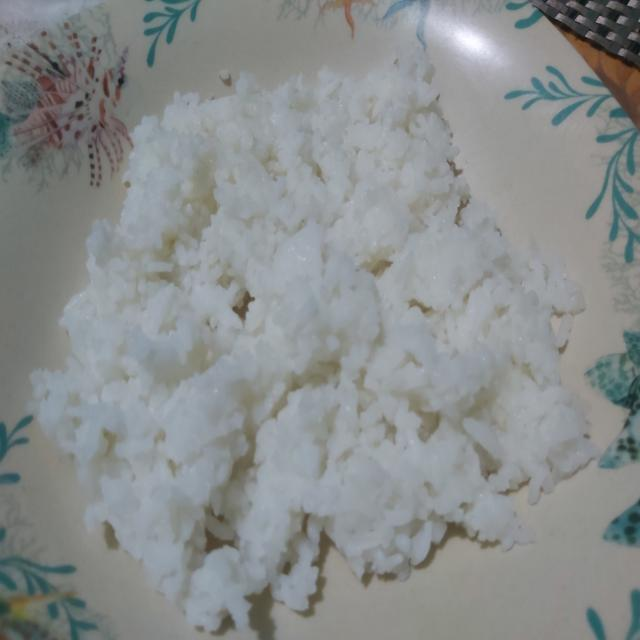Chicken -Chicken Inasal-: (76, 81, 568, 591)
